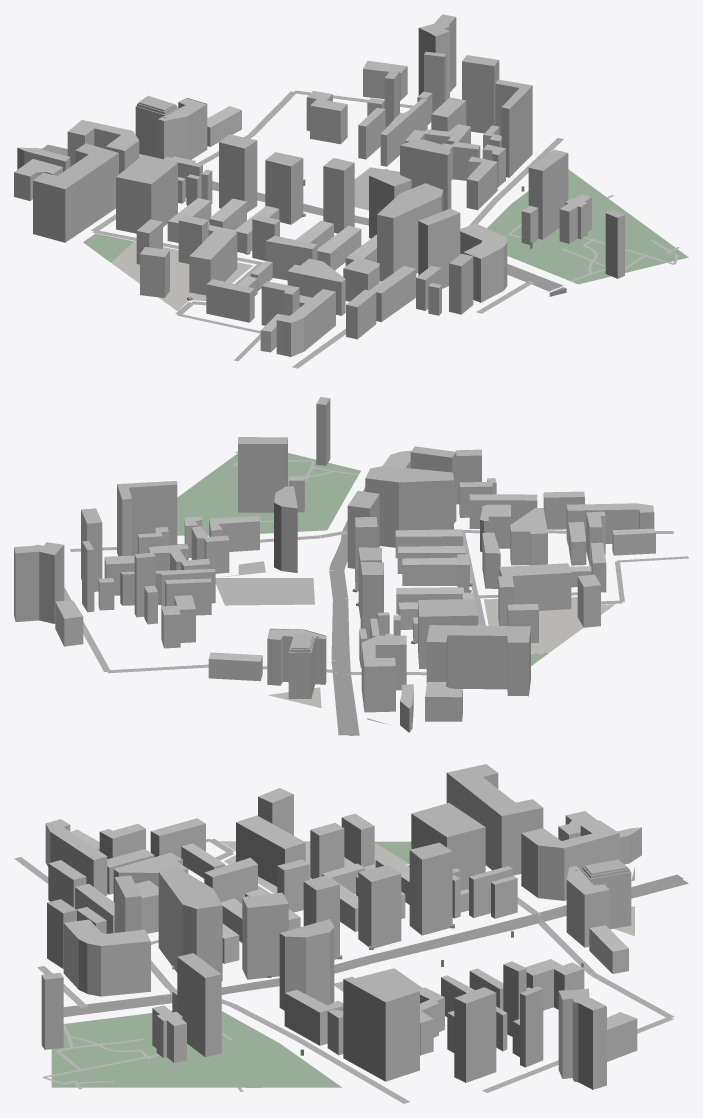
3 views of the same model, one above another, from view 1: azimuth 30°, elevation 25°; view 2: azimuth 150°, elevation 25°; view 3: azimuth 270°, elevation 25° (orthographic). The views are drawn at different scales.
Size of the model in its own units: 565 by 80.98 by 578.
